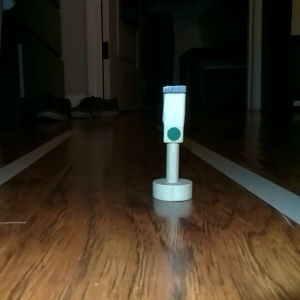traffic light green: (150, 81, 194, 204)
